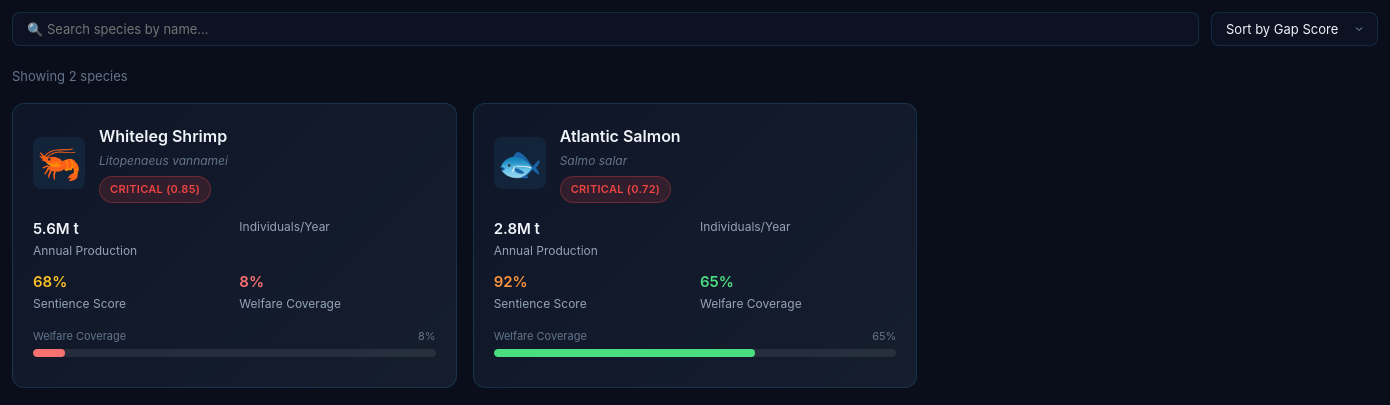
SpeciesExplorer › filters species by search query matching common name
Type "salmon" into the field at (606, 29), box [12,12,1199,46]
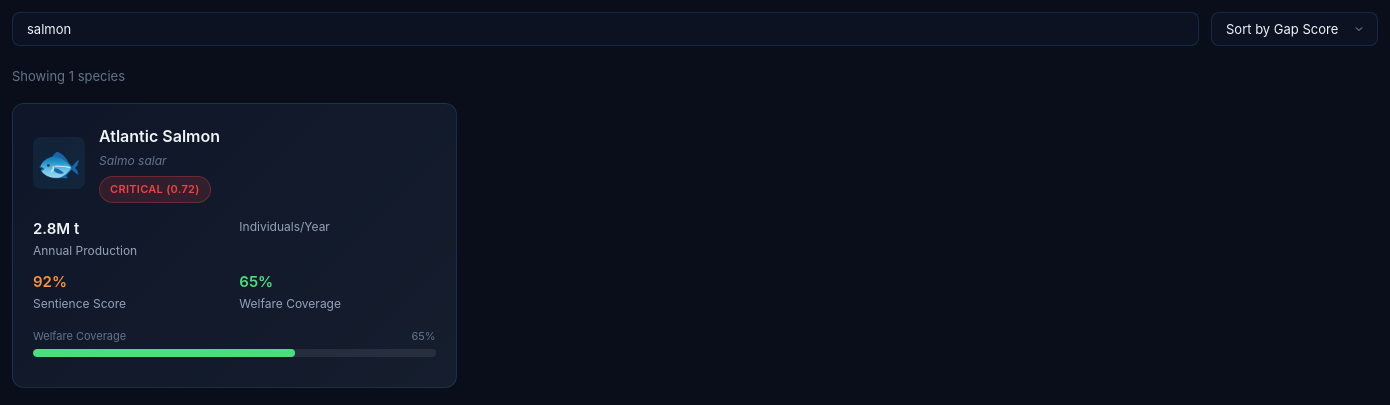
expect the heading "Atlantic Salmon" is shown: met, box [99,124,220,149]
expect the heading "Whiteleg Shrimp" is gone: met
